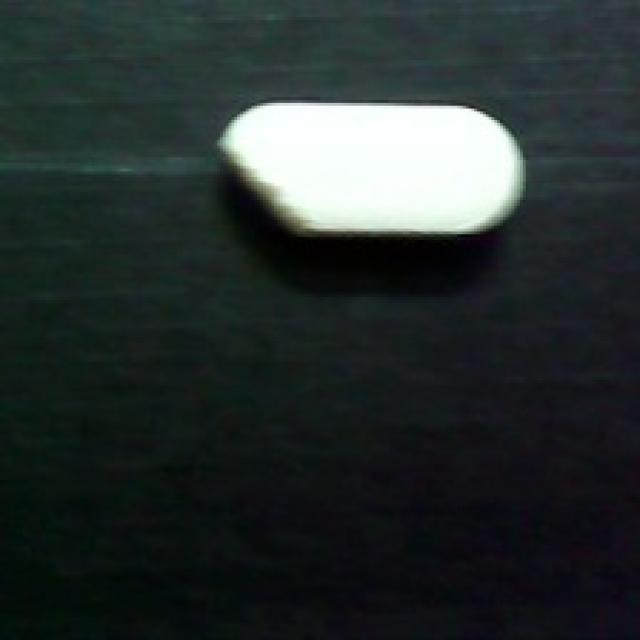defected: (209, 80, 549, 251)
